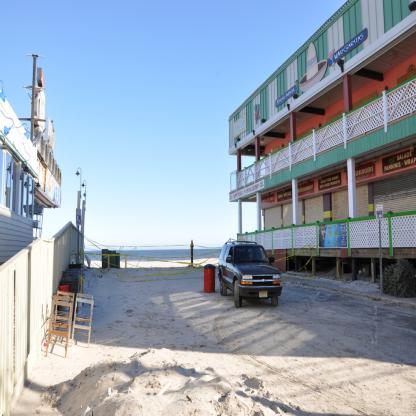Car: (216, 239, 292, 313)
